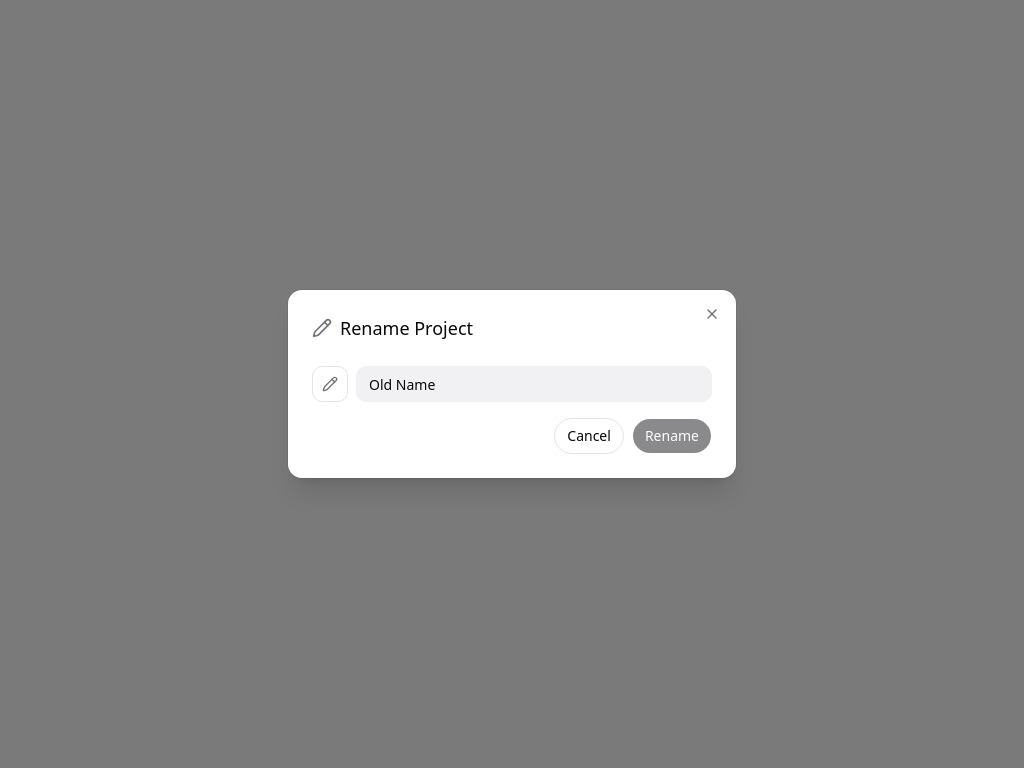
it: RenameModal › enables rename button on first letter typed after clearing
Replace the text in the field showing "Old Name" with "A" at (534, 384), box [356,366,712,402]
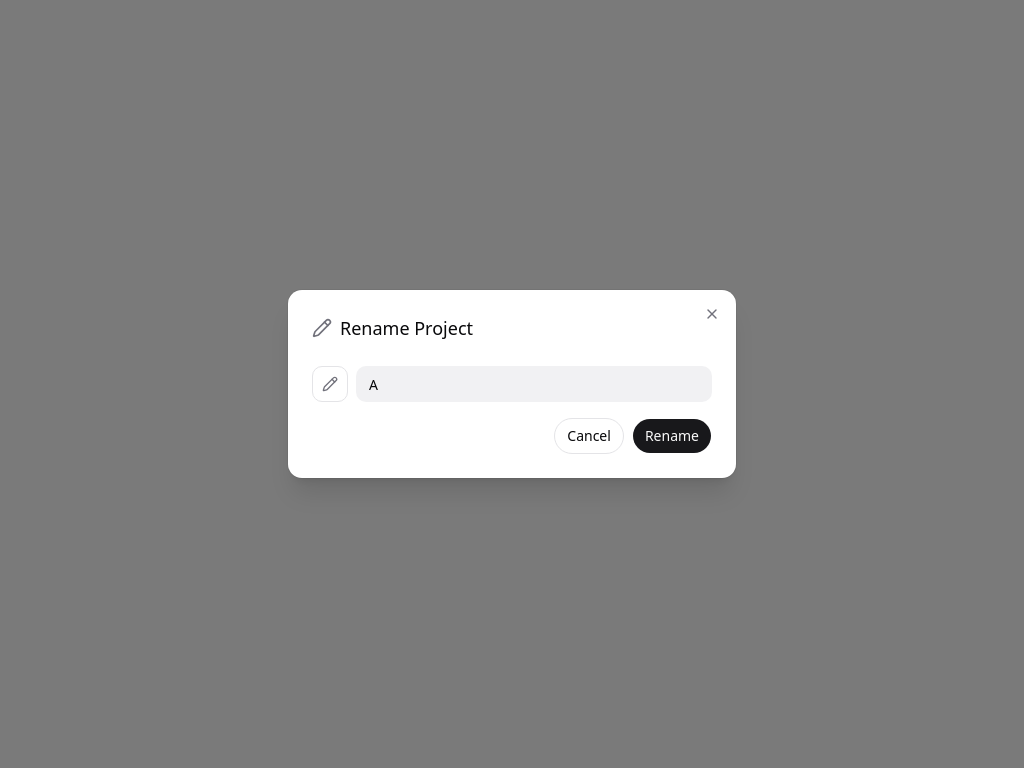
Now the button "Rename" is enabled, box [632,418,712,454]
